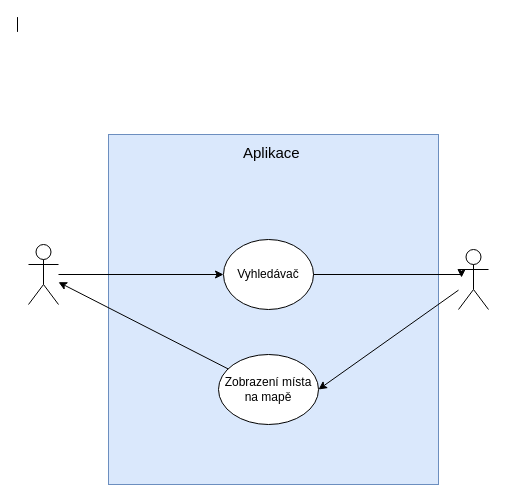
This 506x503 diagram has some shape labels left out. Here are the shapes that lost their labels. From the top down, the centre of each, then its label:
At pixel 43 274: "Uživatel".
At pixel 473 279: "GPS".
